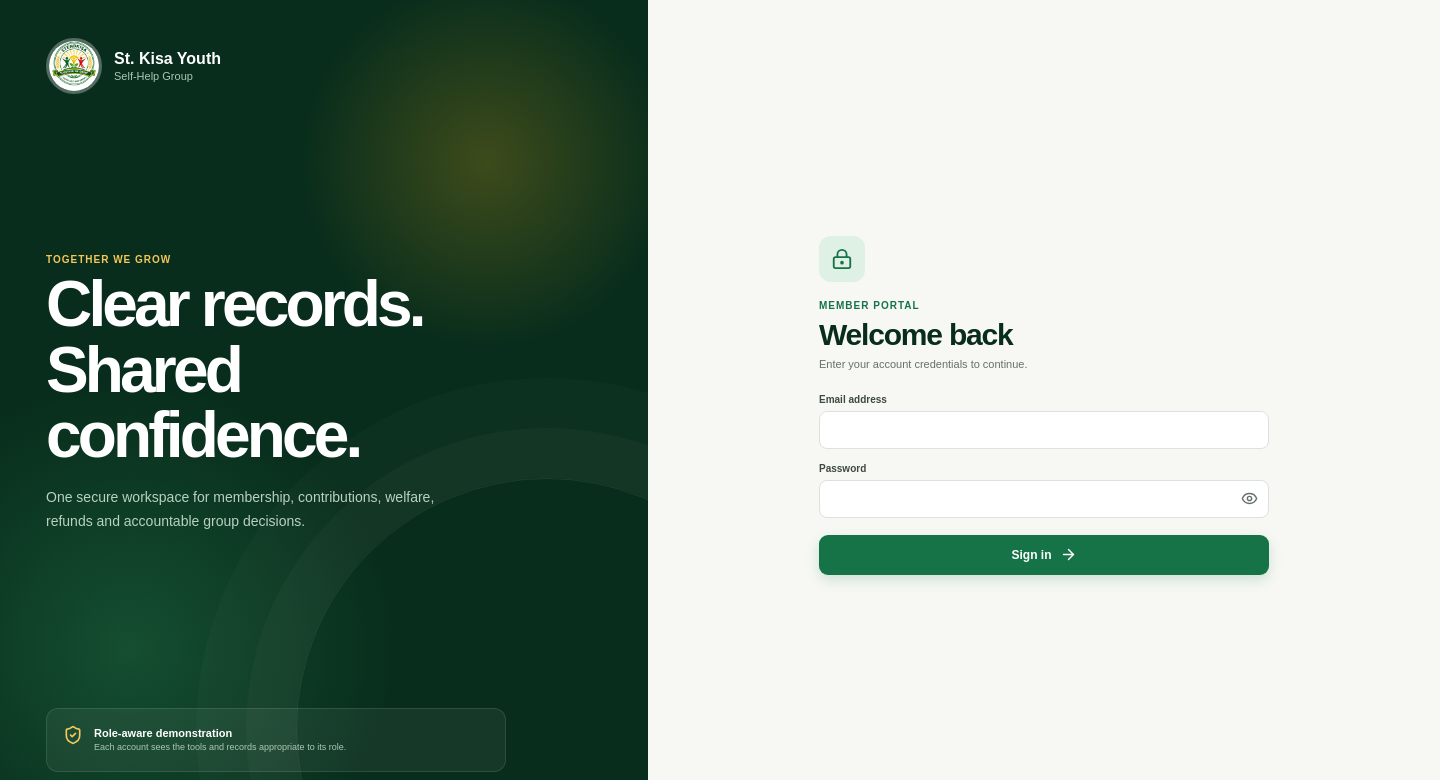
Scenario: St. Kisa member portal › filters members by registration number
The image size is (1440, 780).
Type "admin@stkisa.org" into the field labelled "Email address" at (1044, 430), box [819,410,1269,448]
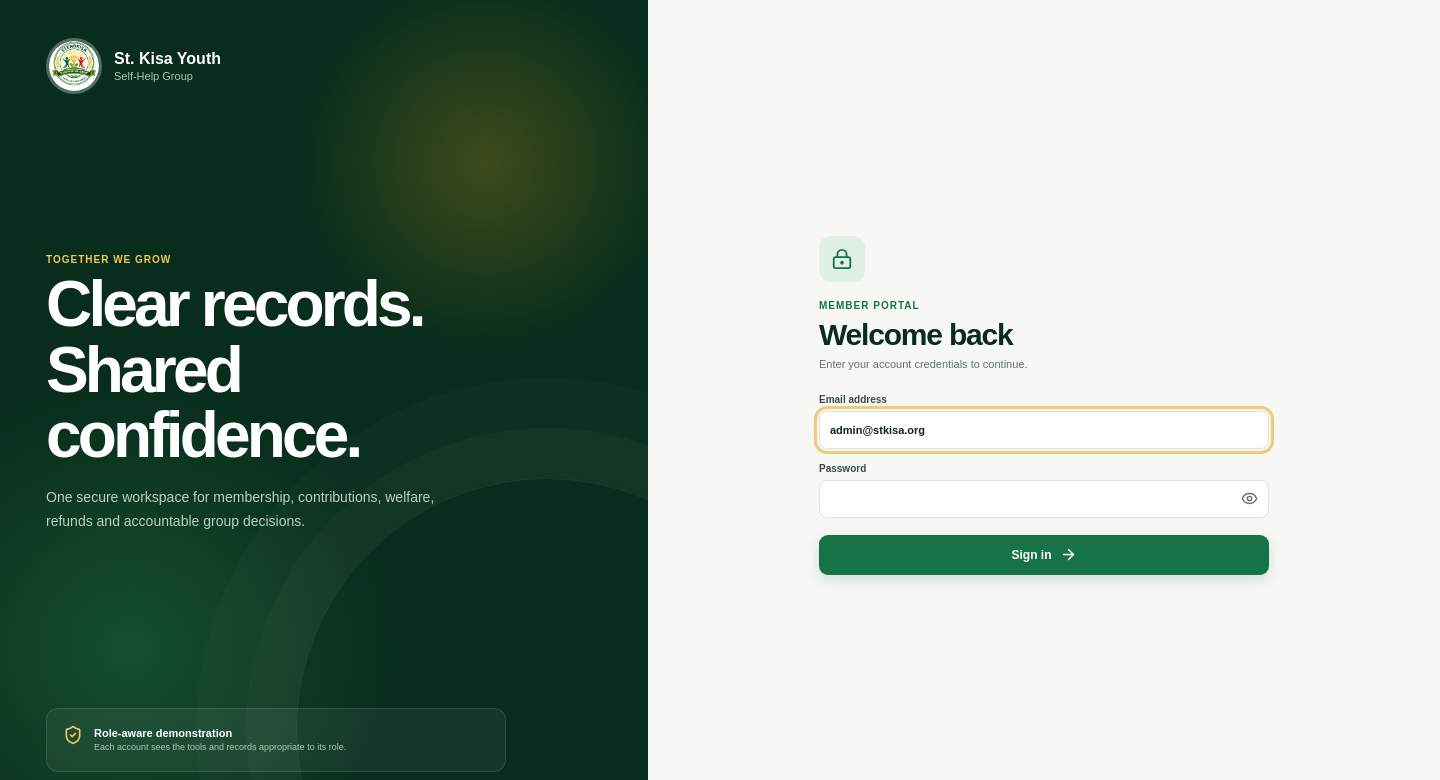
Type "Demo@2026" into the password field labelled "Password" at (1044, 498), box [819,480,1269,518]
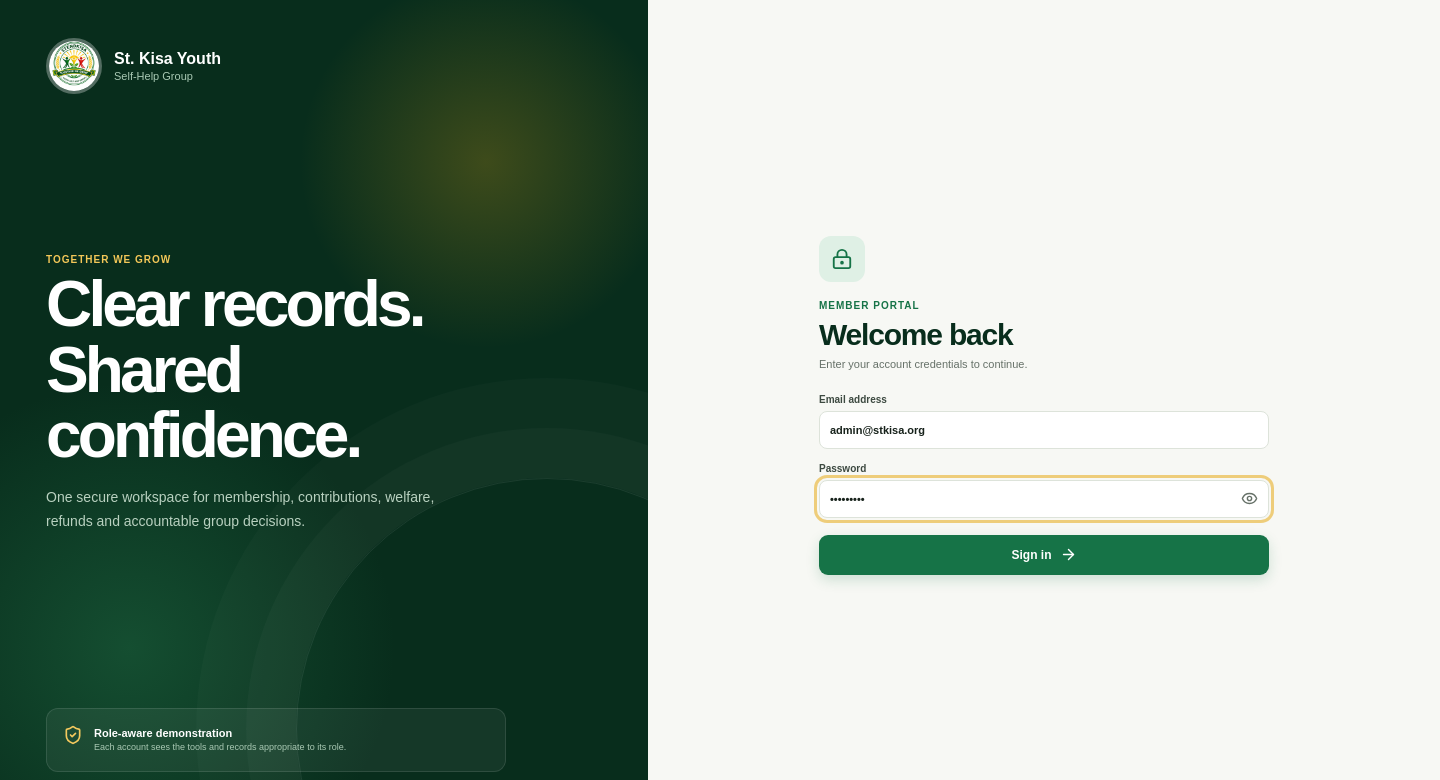
Click the button "Sign in" at (1044, 554), box [819,534,1269,574]
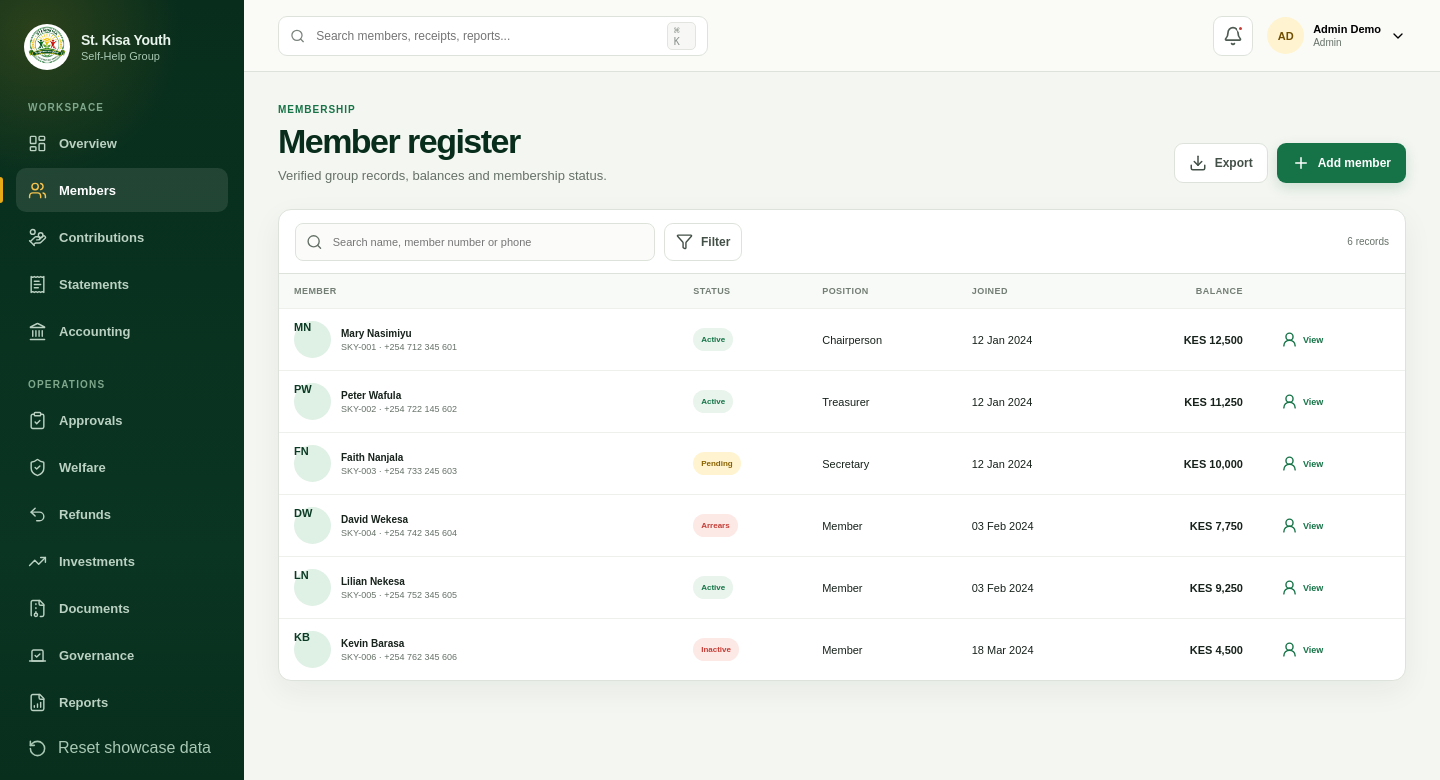
Type "SKY-004" into the search field named "search members" at (487, 242), box [331,234,644,248]
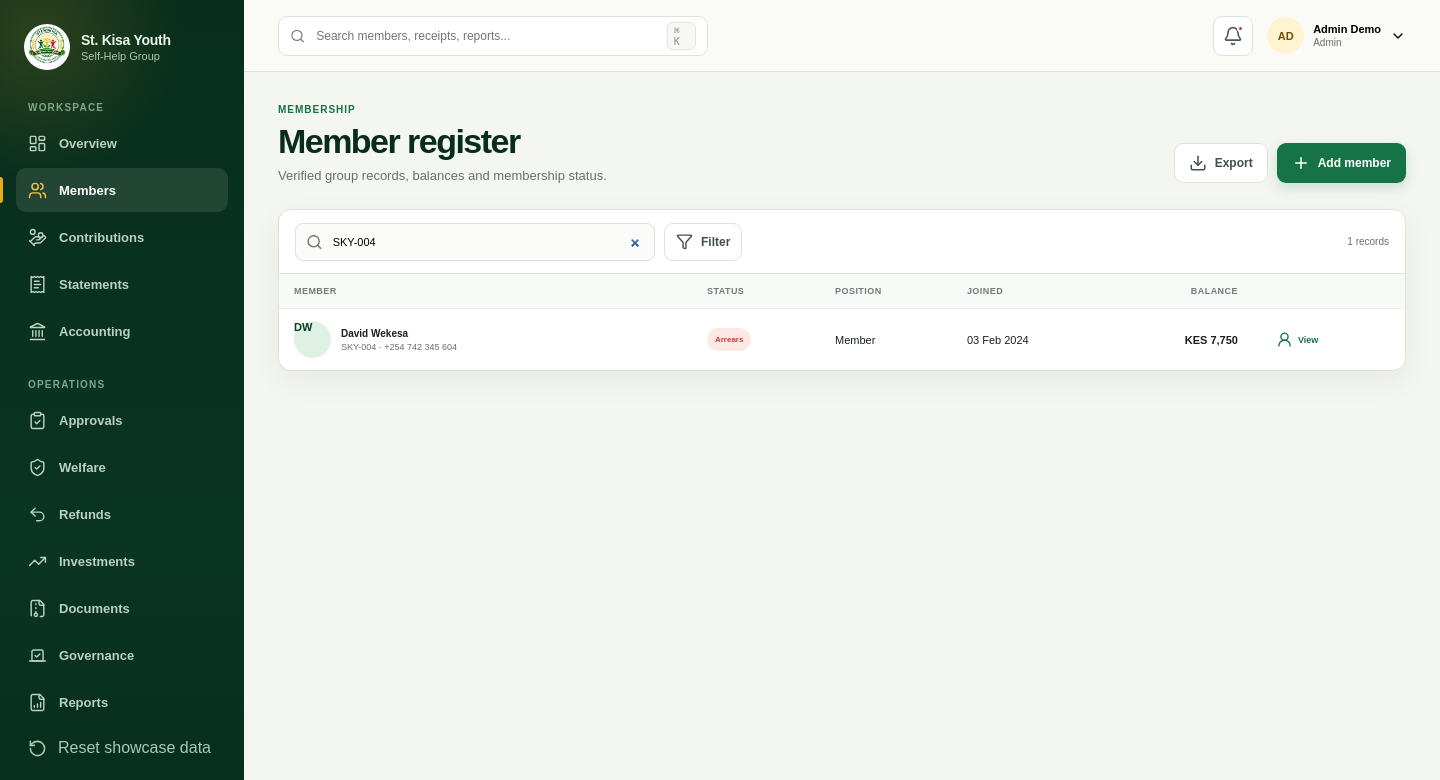
Now the text "David Wekesa" is shown, box [341,328,408,338]
Now the text "Mary Nasimiyu" is gone
